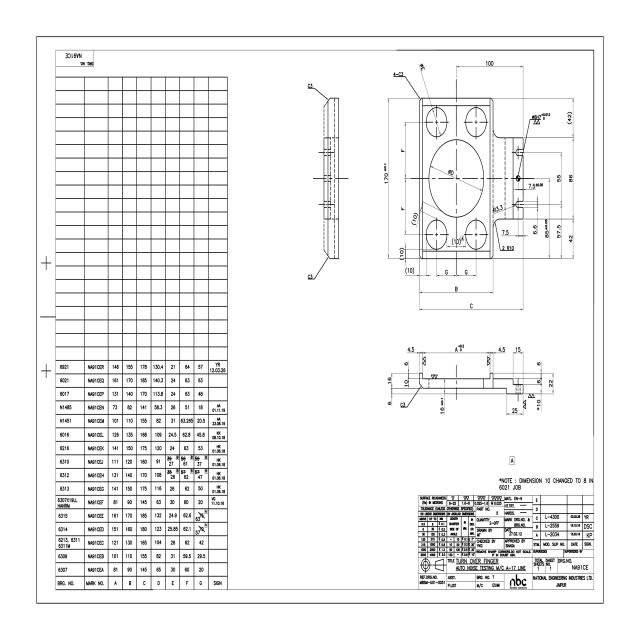dimension: (447, 342, 467, 360), (531, 111, 552, 121), (408, 210, 419, 228), (542, 218, 550, 239), (492, 203, 506, 215), (450, 235, 465, 246), (528, 181, 545, 190), (534, 395, 542, 412), (566, 108, 573, 127), (383, 162, 389, 184), (392, 70, 406, 79), (555, 223, 562, 241), (438, 396, 444, 416), (511, 404, 521, 416), (496, 344, 508, 354), (484, 58, 496, 68), (500, 244, 515, 252), (404, 265, 416, 275), (398, 245, 405, 262), (418, 61, 427, 73), (402, 357, 410, 370), (400, 398, 408, 411), (566, 172, 574, 185), (406, 345, 416, 355), (531, 223, 538, 237), (447, 167, 455, 179), (555, 172, 562, 185), (513, 344, 522, 354), (306, 82, 315, 92), (550, 378, 558, 389), (534, 376, 542, 387), (307, 272, 315, 283), (567, 232, 575, 243), (385, 399, 393, 409), (500, 228, 510, 236), (386, 376, 393, 387), (402, 378, 409, 389), (442, 267, 450, 276), (462, 267, 470, 276), (453, 284, 460, 294), (535, 359, 542, 368), (468, 301, 475, 310), (399, 204, 406, 212), (400, 146, 406, 155)
